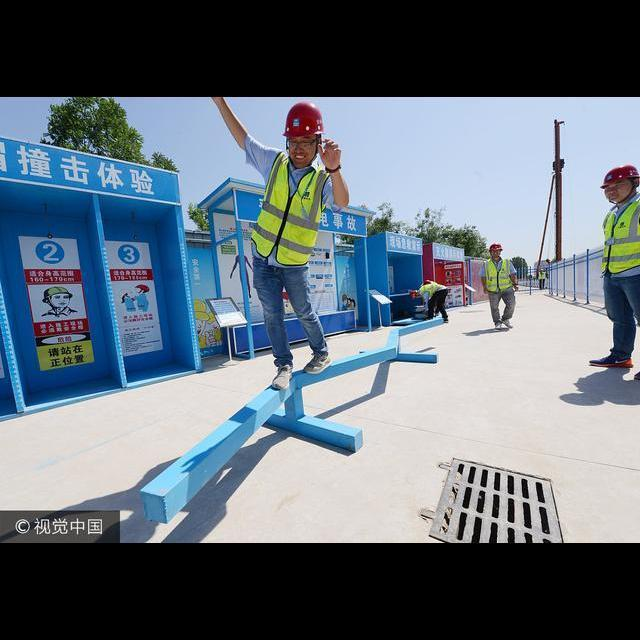Capacete: (283, 102, 323, 137), (601, 165, 639, 188), (489, 243, 502, 250)
Colete: (251, 153, 327, 265), (602, 201, 639, 273), (485, 259, 512, 292), (418, 282, 445, 297), (538, 271, 545, 279)
Pessoa: (212, 97, 348, 388), (589, 165, 639, 367), (480, 243, 517, 328), (418, 280, 448, 322), (538, 269, 545, 289)
